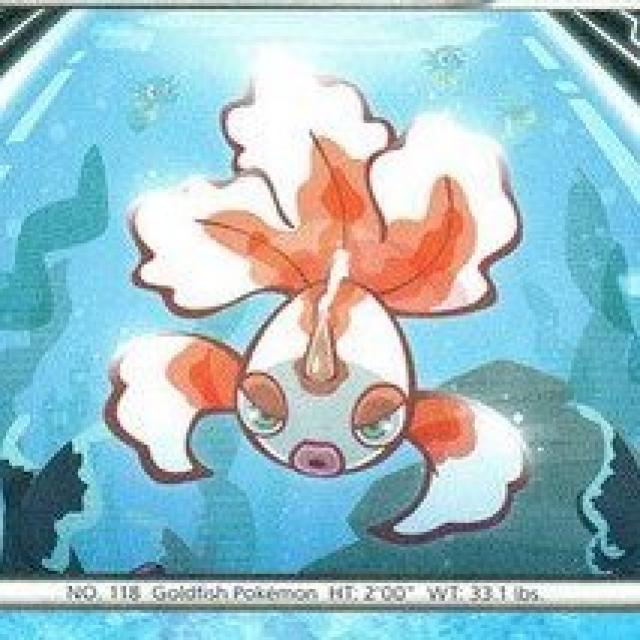Goldeen: (116, 158, 525, 483)
